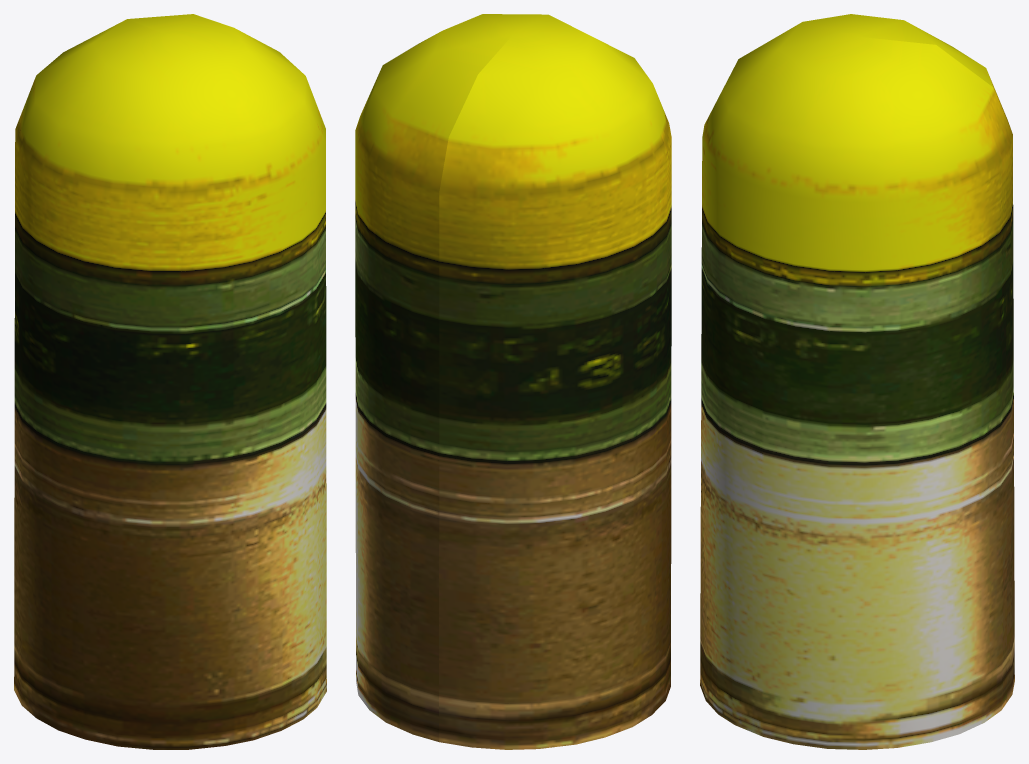
The model's file is 40mm_ammo.fbx.
3 renders of one model, left to right at view 1: azimuth 30°, elevation 25°; view 2: azimuth 150°, elevation 25°; view 3: azimuth 270°, elevation 25°, orthographic.
Parts seen in each view (by area): view 1: 40mm_ammo; view 2: 40mm_ammo; view 3: 40mm_ammo.
Part boxes in pixels (x1=…): 40mm_ammo: x1=14, y1=14, x2=326, y2=749; 40mm_ammo: x1=355, y1=14, x2=671, y2=749; 40mm_ammo: x1=700, y1=14, x2=1014, y2=749.
Bounding box in the file's own units: 0.061 × 0.138 × 0.0608.
